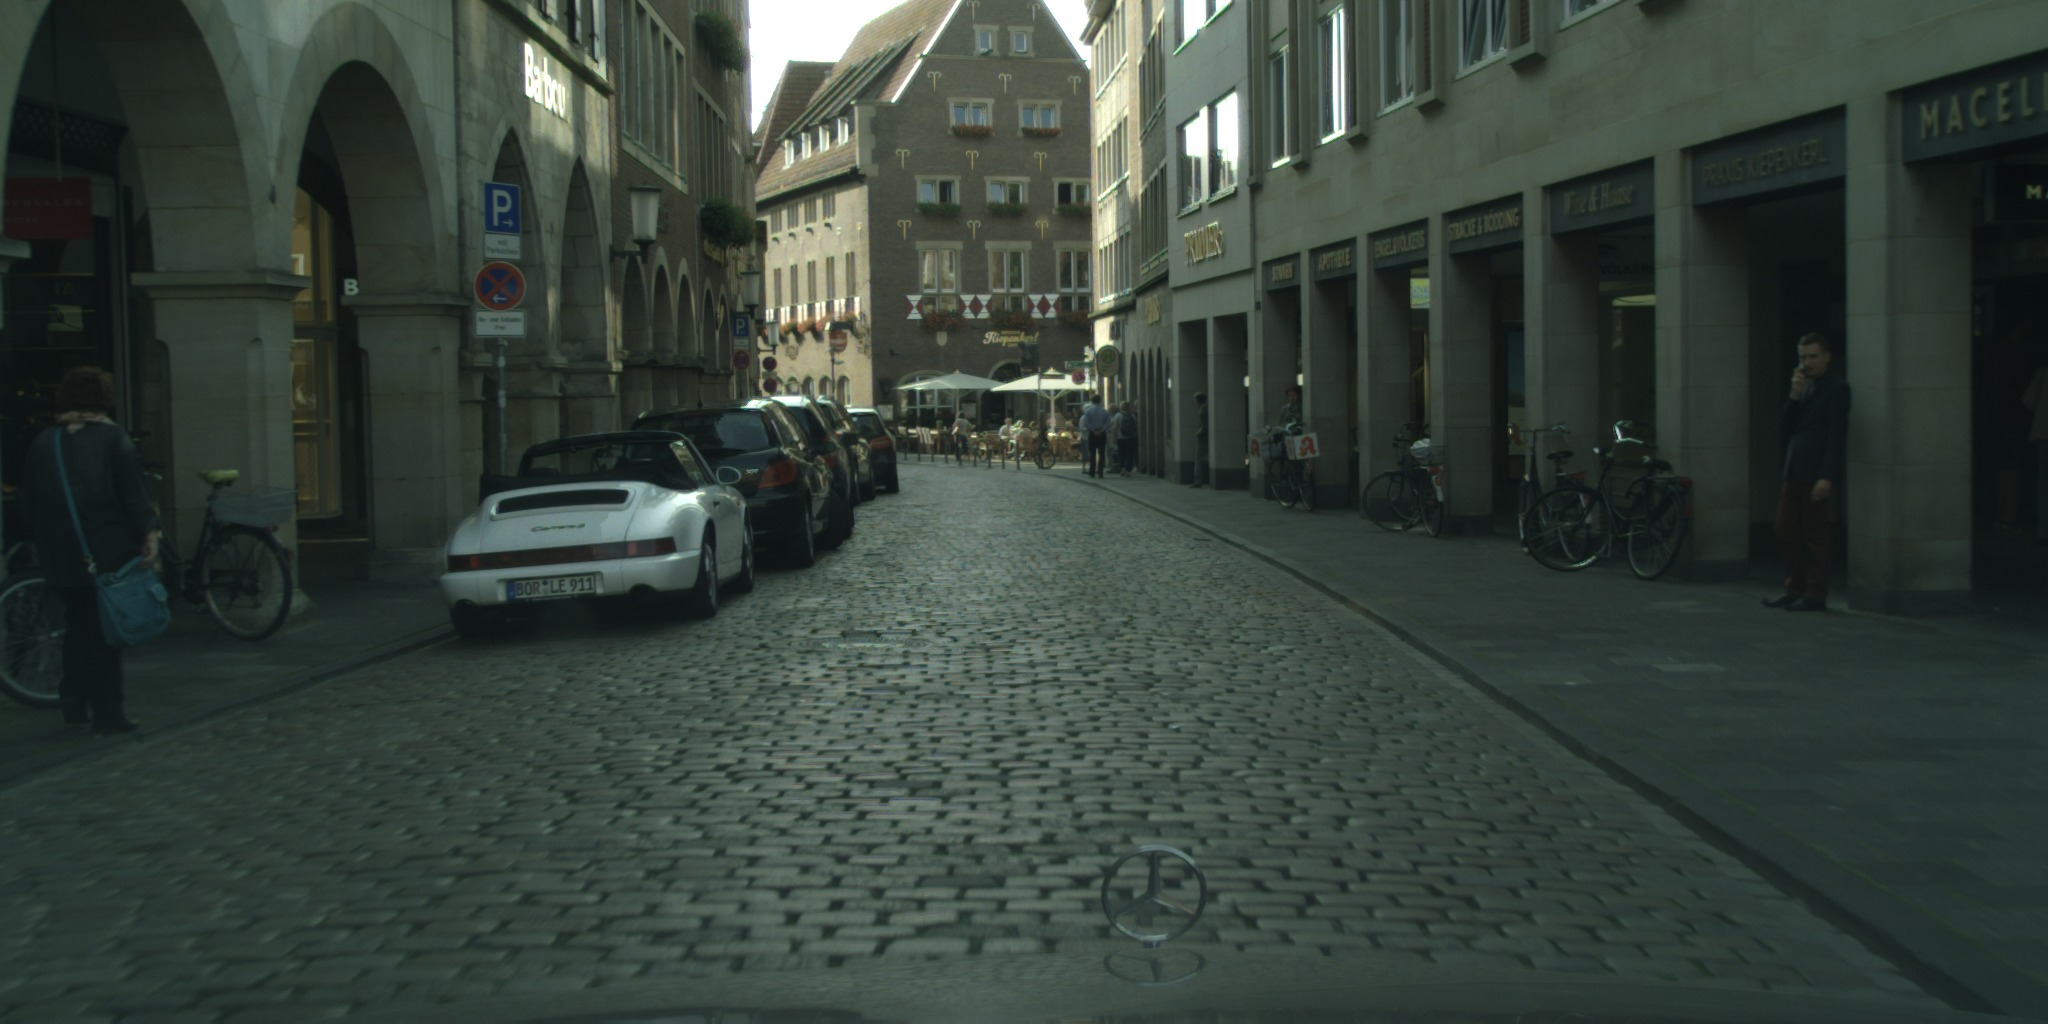bicycle: (111, 431, 297, 643), (1523, 418, 1694, 580), (0, 536, 85, 709), (1500, 424, 1593, 564), (1362, 422, 1445, 537), (1245, 421, 1320, 513), (1032, 438, 1056, 470), (964, 440, 990, 463)
car: (436, 431, 756, 641), (624, 398, 849, 569), (726, 394, 858, 532), (797, 394, 876, 508), (842, 406, 900, 492)
person: (14, 365, 173, 740), (1761, 328, 1849, 613), (1081, 394, 1111, 480), (1189, 390, 1209, 490), (1112, 401, 1135, 479), (1276, 384, 1301, 452), (1104, 403, 1121, 475), (1079, 402, 1093, 475), (951, 412, 973, 459), (1041, 416, 1062, 440), (1066, 405, 1084, 430), (996, 417, 1013, 443), (1010, 418, 1024, 444), (1026, 419, 1041, 446), (1132, 402, 1138, 473)
